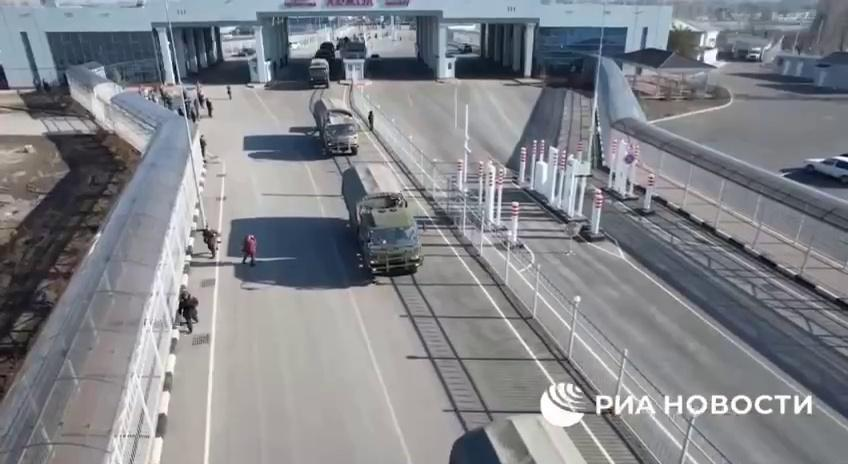person: (176, 292, 200, 334), (202, 226, 221, 259), (242, 234, 257, 268), (198, 134, 210, 162), (367, 110, 377, 132), (222, 82, 233, 100), (194, 81, 204, 98), (206, 97, 214, 117)
truck: (340, 163, 424, 277), (445, 410, 594, 464), (314, 98, 362, 158), (309, 58, 330, 87)
